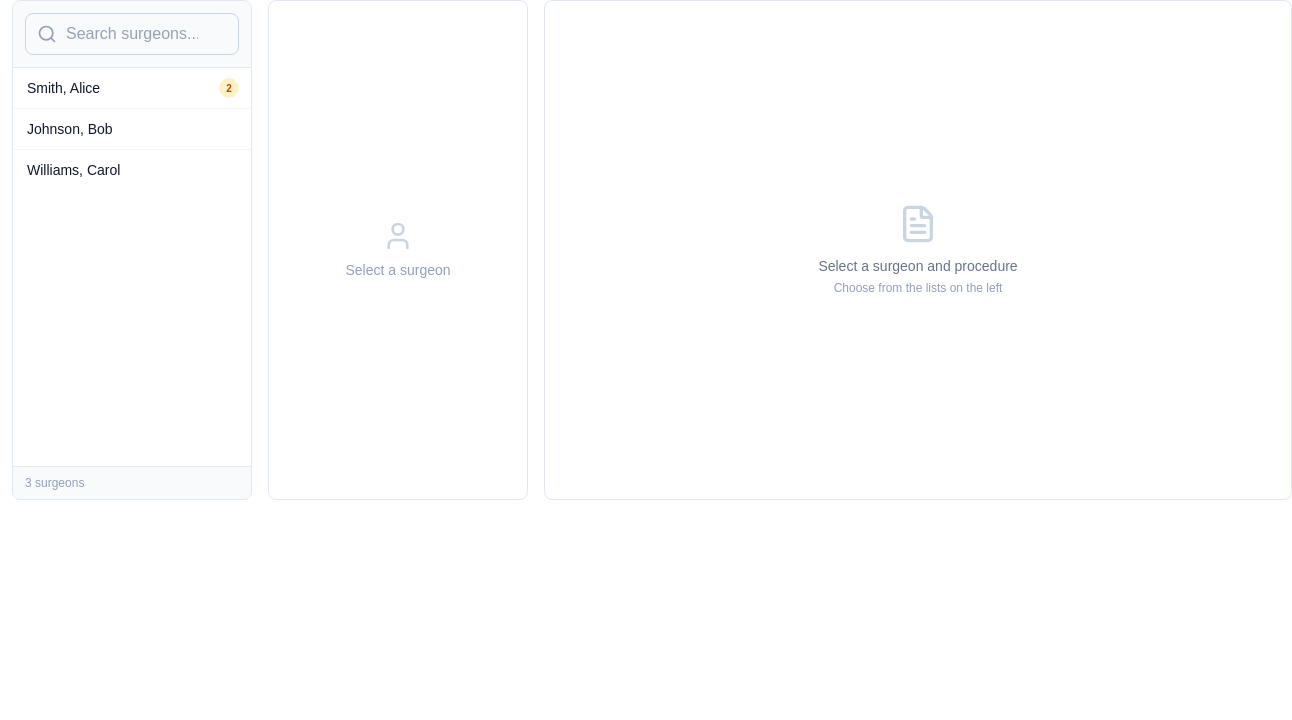
Scenario: SurgeonOverridePanel › surgeon selection › shows procedure list when surgeon is clicked
Click the text "Smith, Alice". click: (64, 88)
box: x1=27 y1=78 x2=100 y2=98
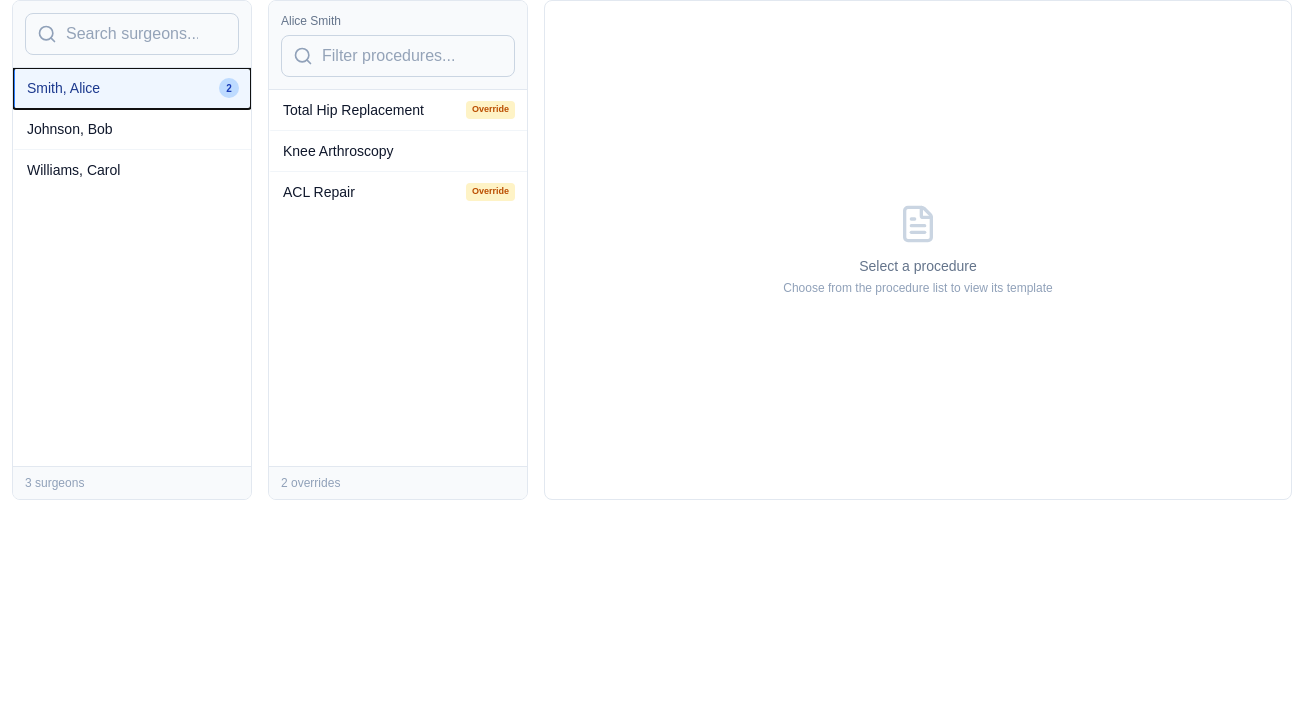
expect the text "Total Hip Replacement" is shown: met, box x1=283 y1=100 x2=424 y2=120
expect the text "Knee Arthroscopy" is shown: met, box x1=283 y1=141 x2=394 y2=161
expect the text "ACL Repair" is shown: met, box x1=283 y1=182 x2=355 y2=202
